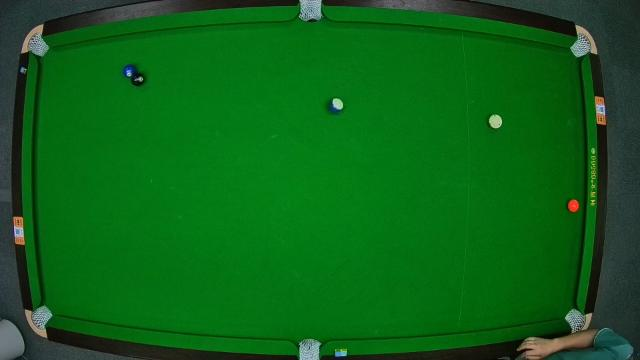bag1: (28, 35, 46, 59)
bag2: (298, 1, 322, 20)
bag3: (571, 35, 591, 55)
bag4: (32, 305, 52, 327)
bag5: (298, 340, 320, 358)
bag6: (566, 310, 586, 332)
ball0: (490, 115, 502, 130)
ball10: (328, 98, 344, 114)
ball2: (122, 63, 140, 79)
ball5: (566, 197, 580, 212)
ball8: (130, 70, 148, 88)
